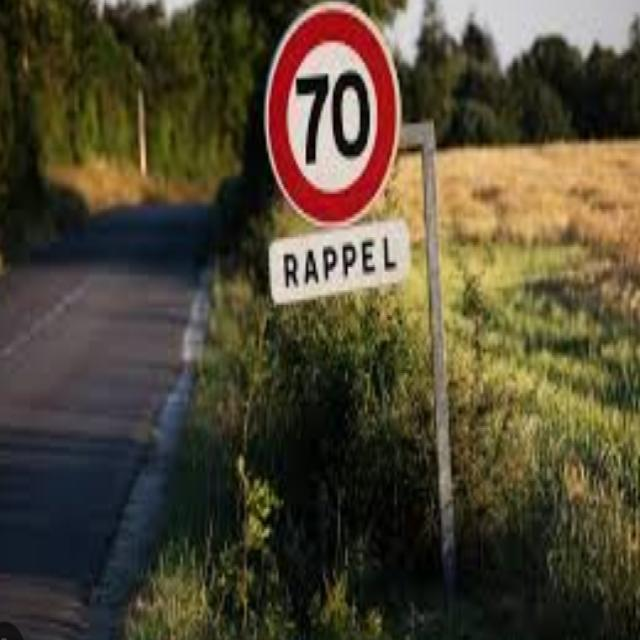speed_70: (263, 0, 404, 228)
